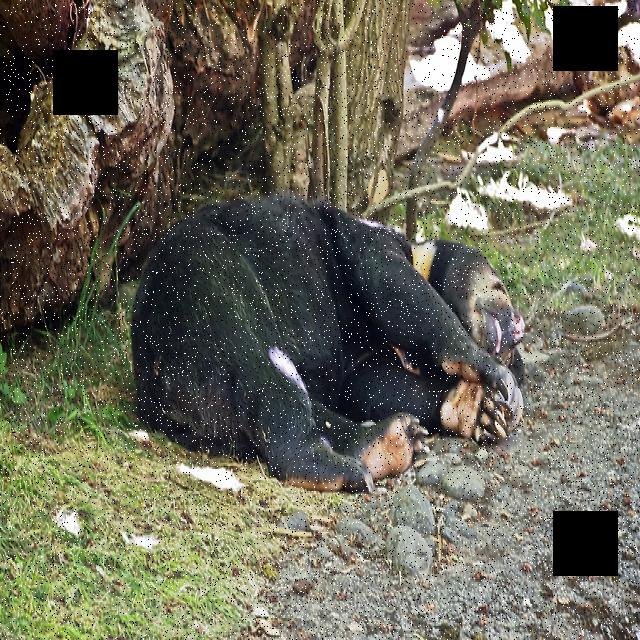Bear: (130, 191, 530, 495)
